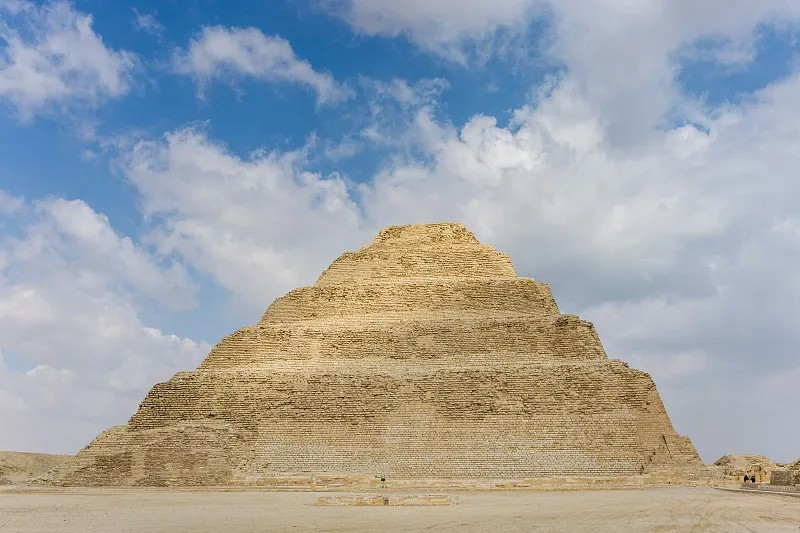Pyramid: (28, 224, 713, 490)
